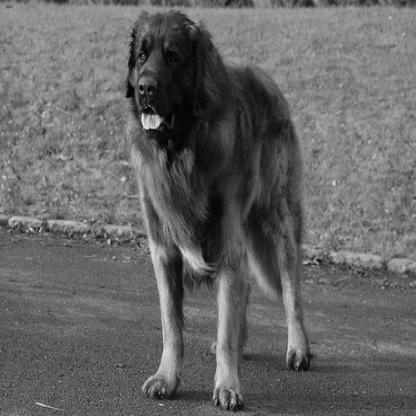Leonberger: (105, 11, 332, 415)
